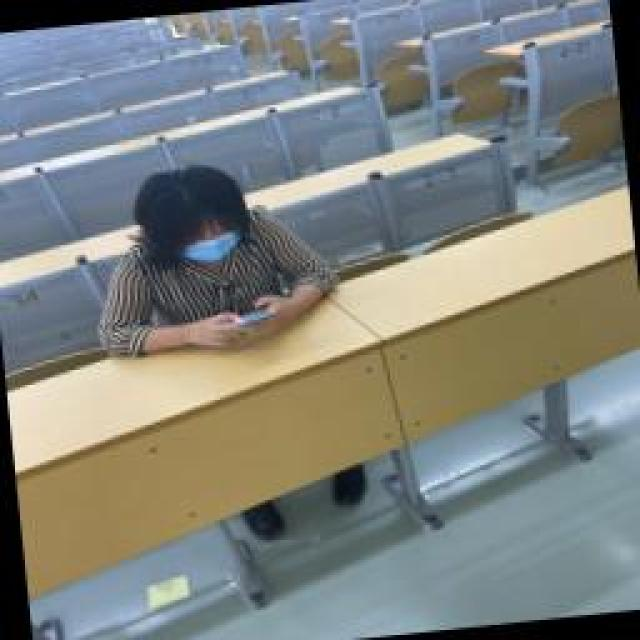phone: (82, 155, 340, 360)
